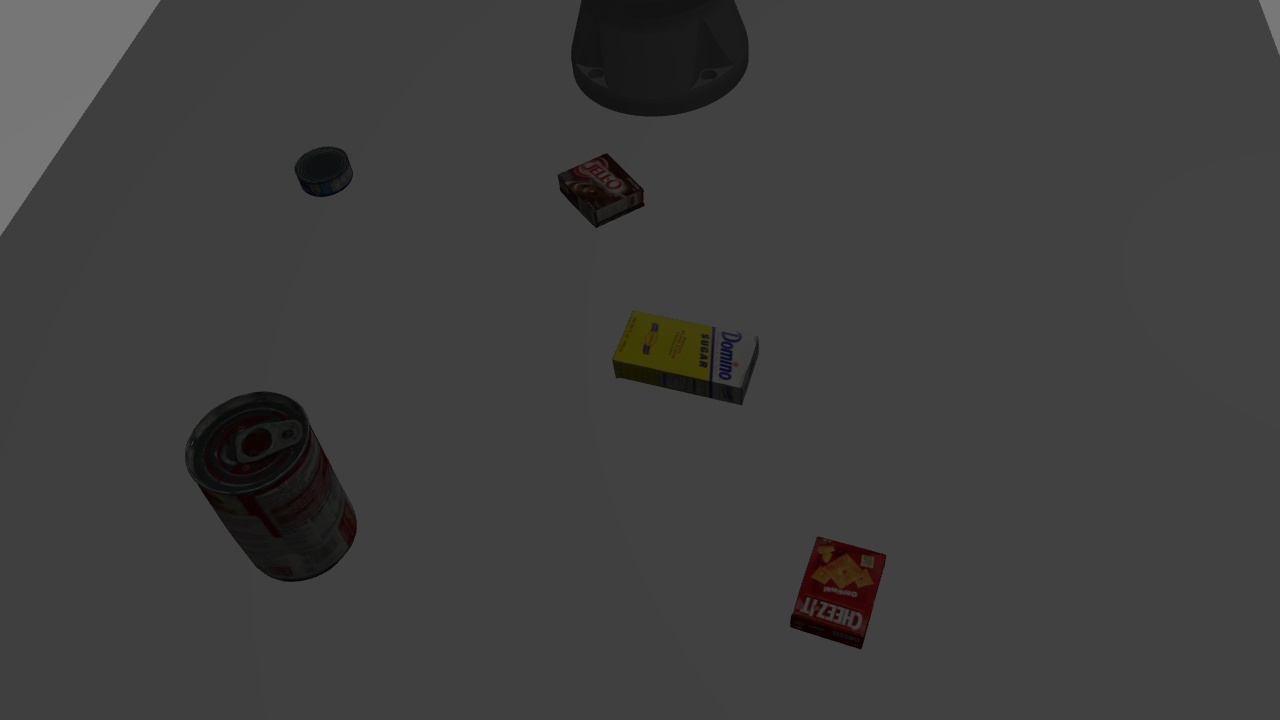cracker_box: (787, 526, 879, 620)
pudding_box: (550, 154, 647, 227)
sugar_box: (608, 302, 765, 410)
tomato_soup_can: (186, 387, 362, 584)
tuna_fish_can: (288, 146, 356, 198)
